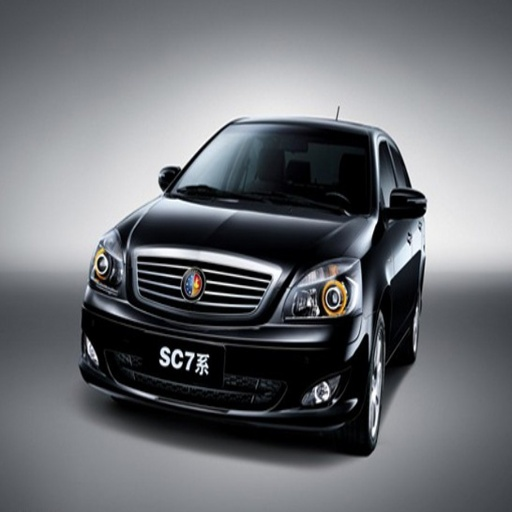front_bumper: (79, 247, 368, 434)
front_glass: (165, 124, 372, 214)
front_left_door: (381, 140, 415, 278)
front_right_light: (92, 227, 126, 298)
